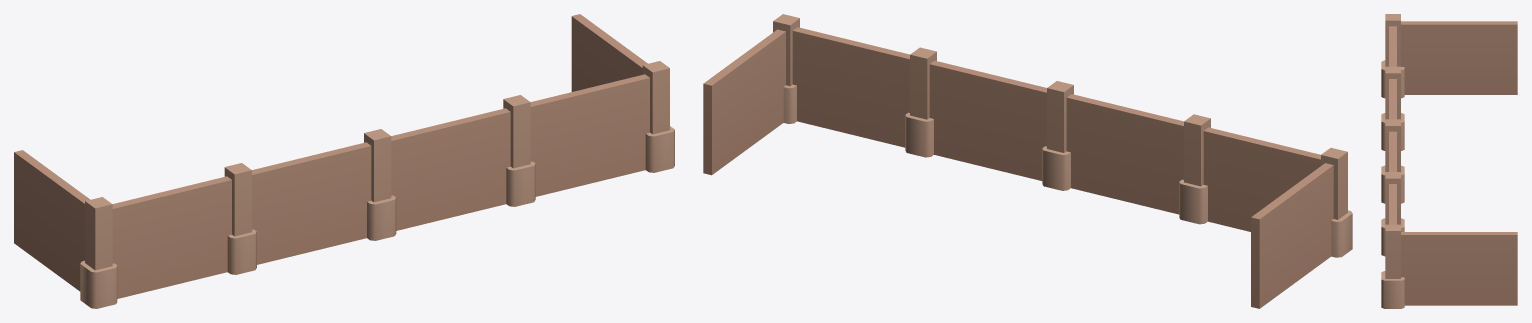
Rendered from fence-1x4.glb.
3 renders of one model, left to right at view 1: azimuth 30°, elevation 25°; view 2: azimuth 150°, elevation 25°; view 3: azimuth 270°, elevation 25°, orthographic. The views are drawn at different scales.
Parts seen in each view (by area): view 1: fence-1x4; view 2: fence-1x4; view 3: fence-1x4.
Boxes of the visible parts, box(x1,y1,x2,y2) form: fence-1x4: box(14, 14, 674, 308); fence-1x4: box(703, 14, 1352, 308); fence-1x4: box(1381, 14, 1517, 308).
Size of the model in its own units: 1.68 by 0.27 by 0.4375.
